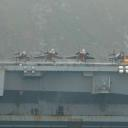Portanaves: (2, 41, 128, 118)
